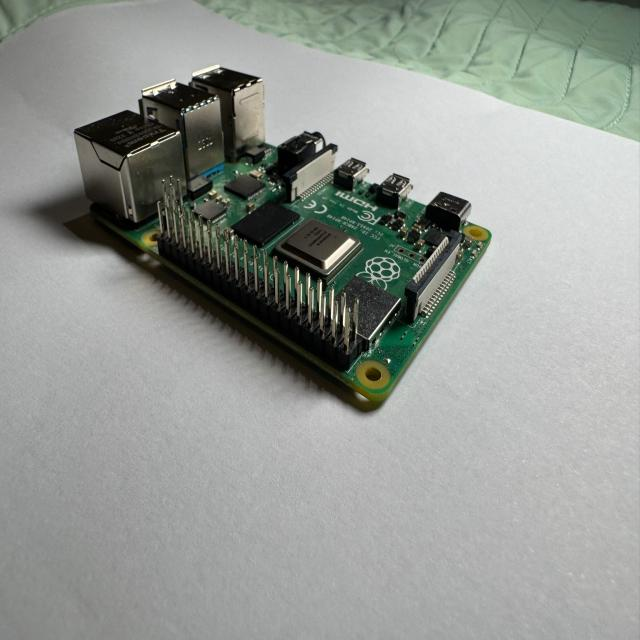CPU: (273, 215, 367, 281)
Ethernet: (64, 108, 194, 236)
GPIO: (155, 195, 362, 373)
RAM: (231, 199, 303, 249)
Raspberry: (70, 67, 492, 415)
micro-hdmi: (377, 172, 415, 212), (330, 157, 368, 192)
